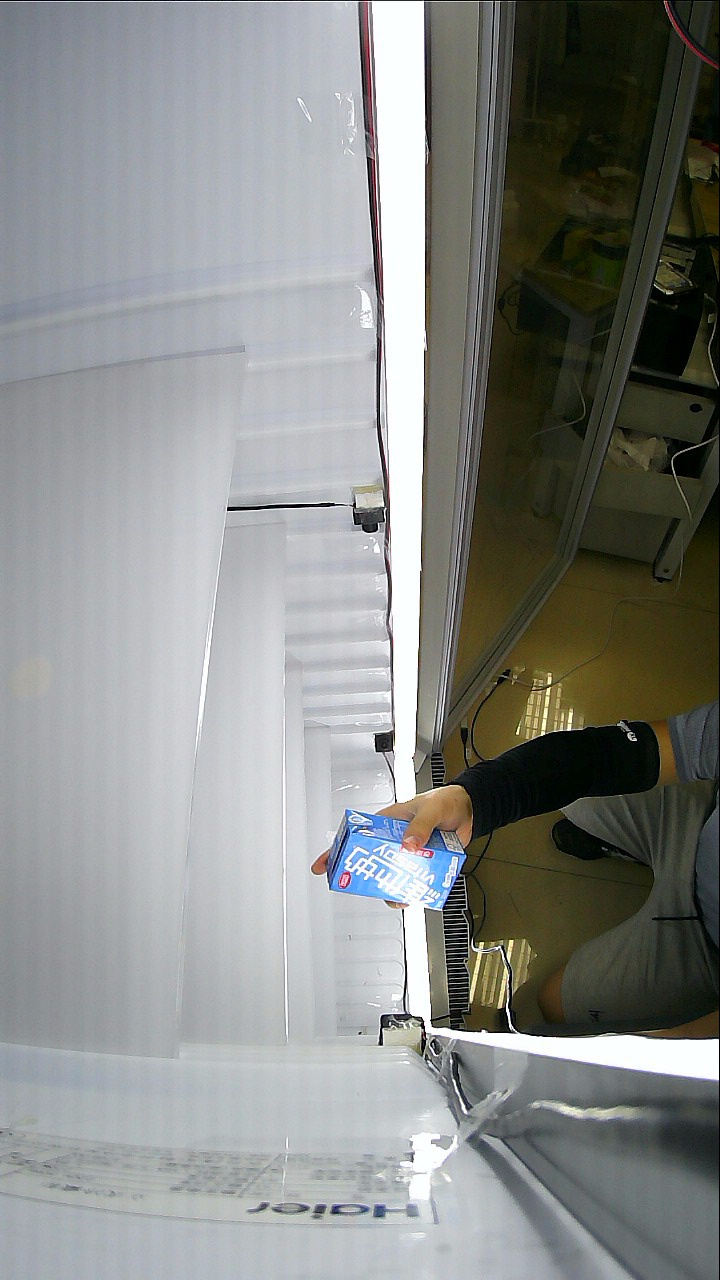VitaSoyOriginal: (316, 746, 526, 913)
